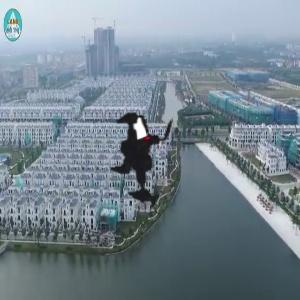drone: (74, 84, 224, 234)
